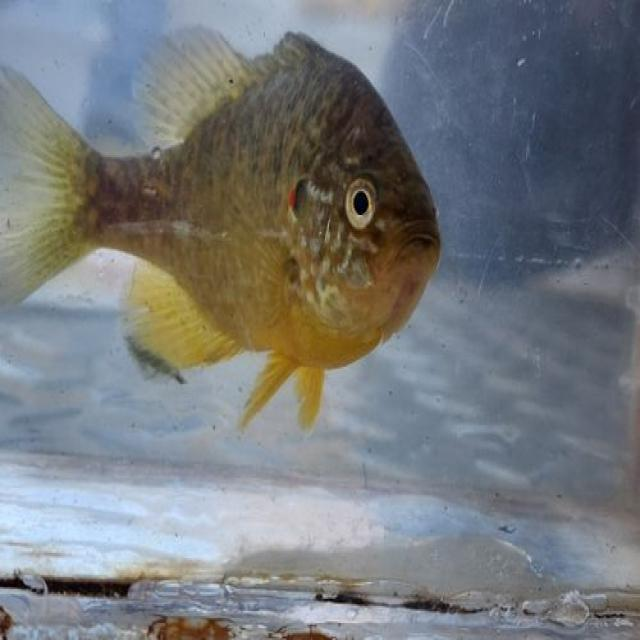Gunes Levregi: (3, 22, 451, 459)
